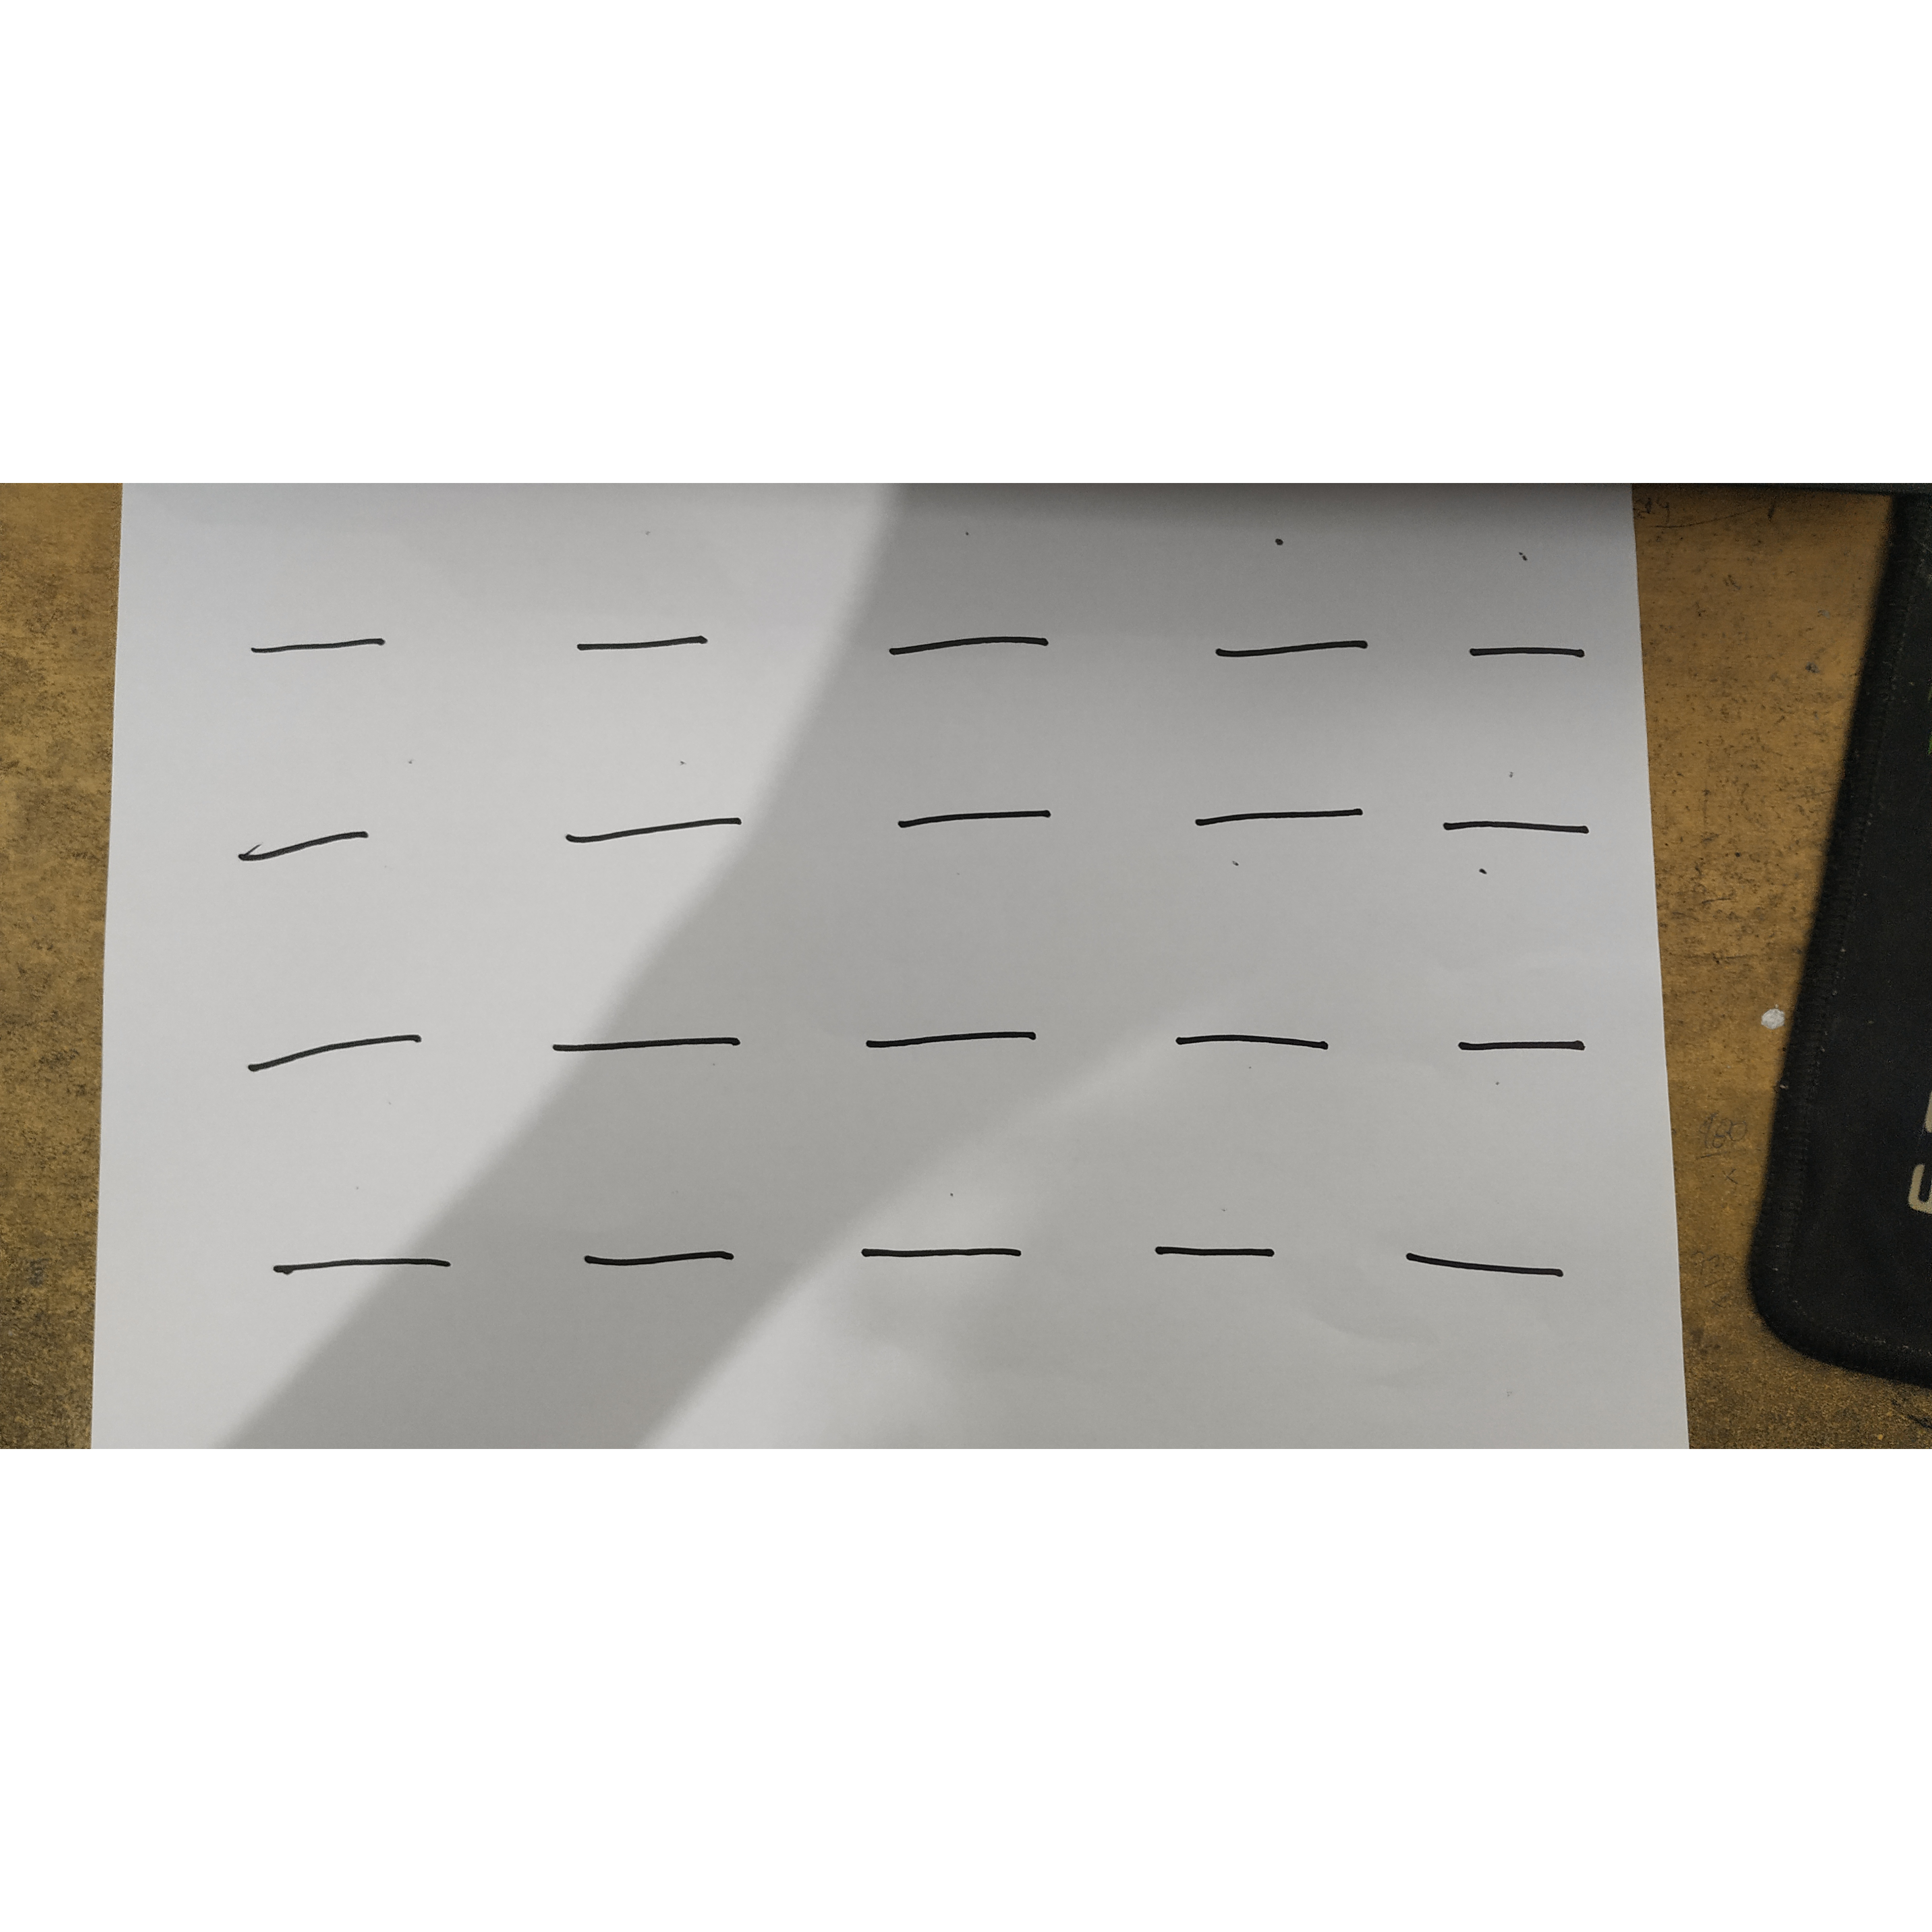min: (219, 989, 442, 1125), (194, 779, 429, 903), (539, 783, 778, 874), (1179, 600, 1395, 695), (843, 991, 1078, 1077), (1158, 773, 1408, 852), (536, 1008, 780, 1088), (864, 787, 1099, 869), (251, 1226, 475, 1310), (217, 603, 436, 691), (1435, 603, 1626, 699), (1399, 1228, 1595, 1315), (1437, 781, 1609, 876), (883, 600, 1078, 684), (555, 603, 757, 682), (1154, 1008, 1370, 1080), (1437, 1010, 1631, 1081), (843, 1222, 1061, 1285), (564, 1224, 765, 1287), (1141, 1228, 1301, 1281)
